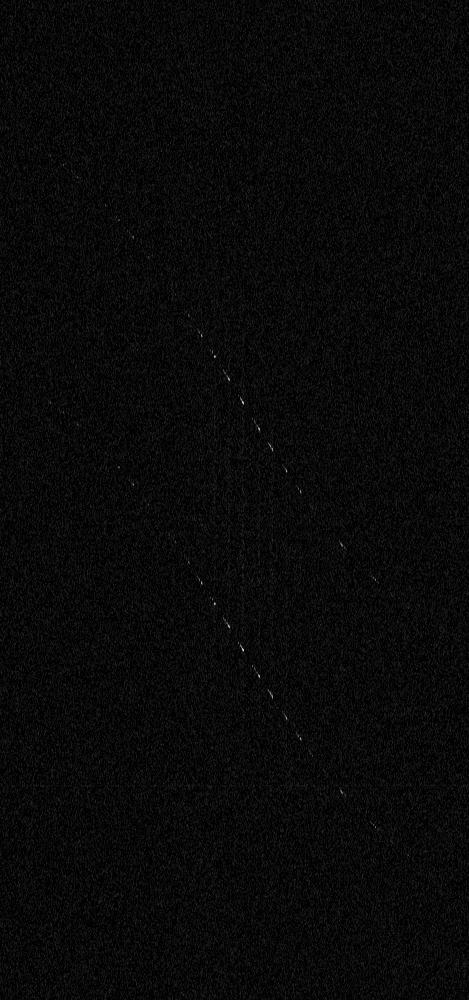signal: (0, 0, 468, 999)
